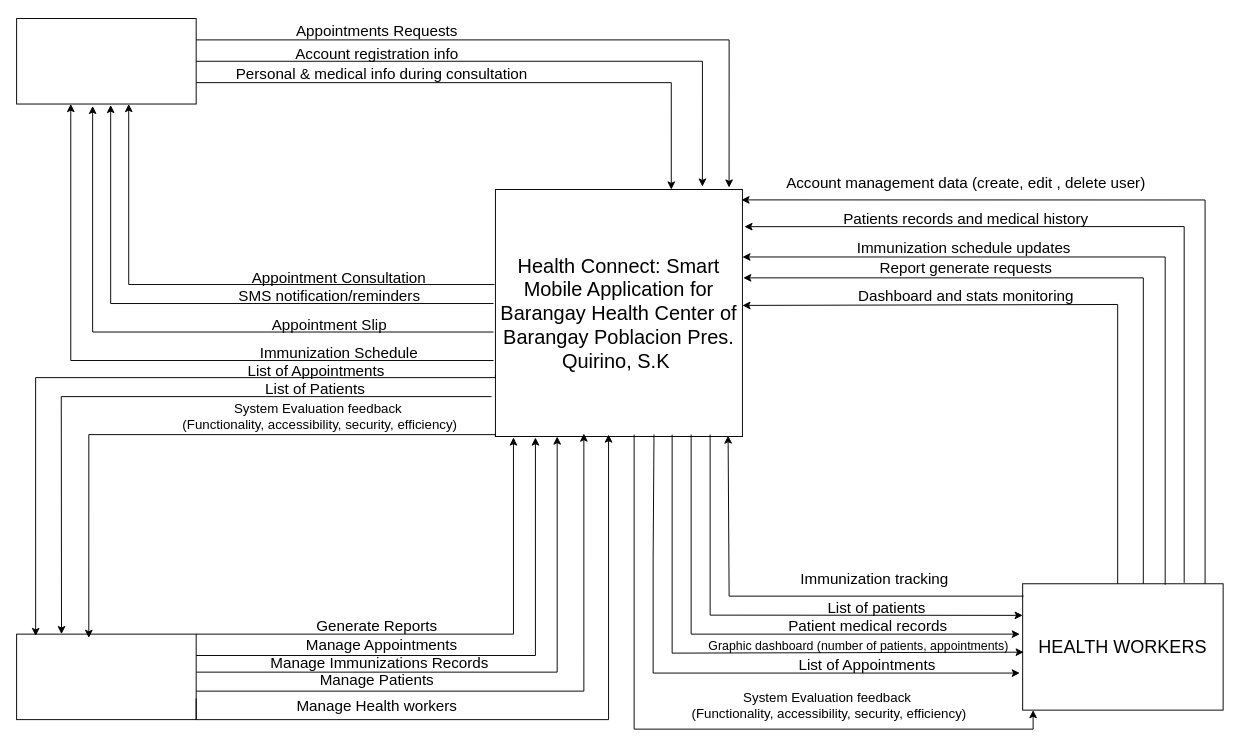
The diagram is 1240 pixels wide and 753 high, and some of its shapes have lost their labels. The centre of each missing label's shape, as x and y in pixels:
"ADMIN" goes at [106,676].
"PATIENT" goes at [106,61].
